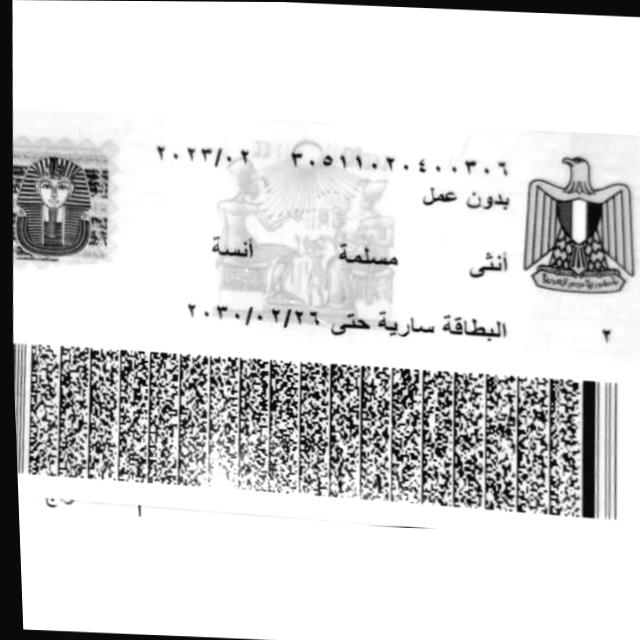id_card: (12, 109, 640, 535)
